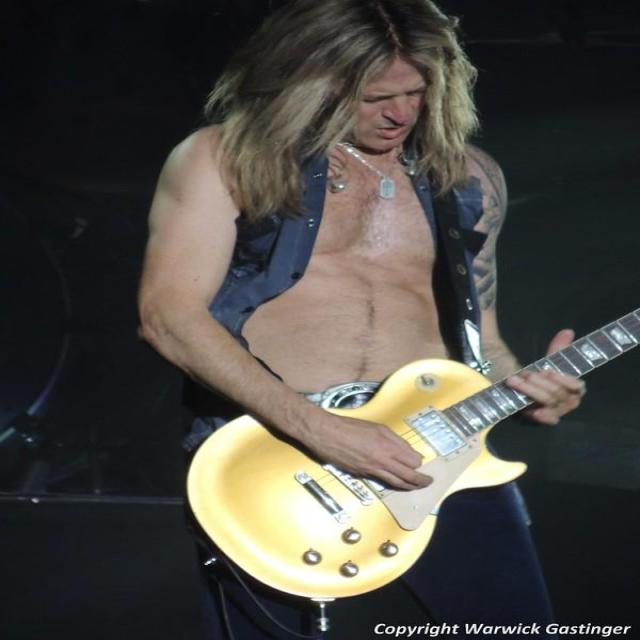guitar: (188, 360, 531, 598)
